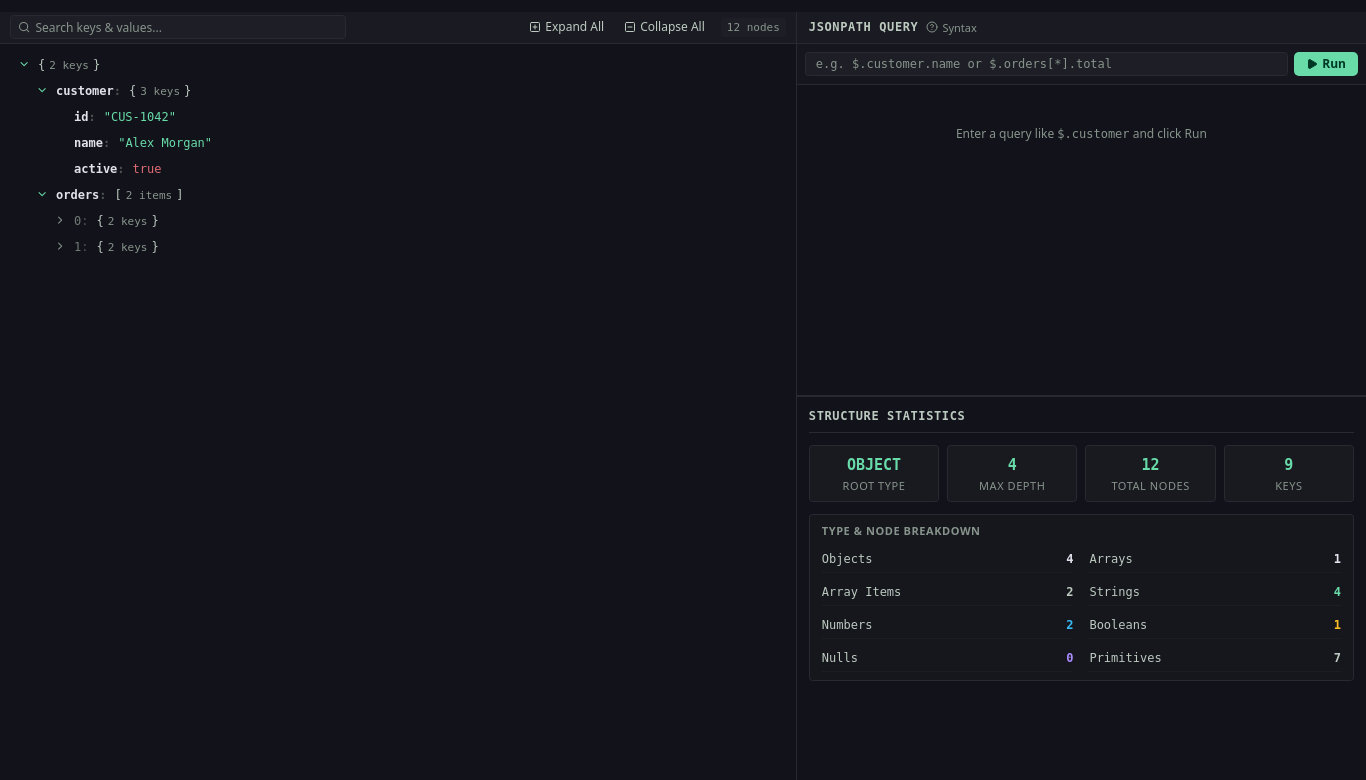
Test: Inspector Component Suite › handles expand and collapse on tree nodes
Expected: the text "\"Alex Morgan\"" is shown, [118, 134, 212, 152]
Step 1. Click the 2nd button named "collapse node" → [42, 90], box [32, 80, 52, 100]
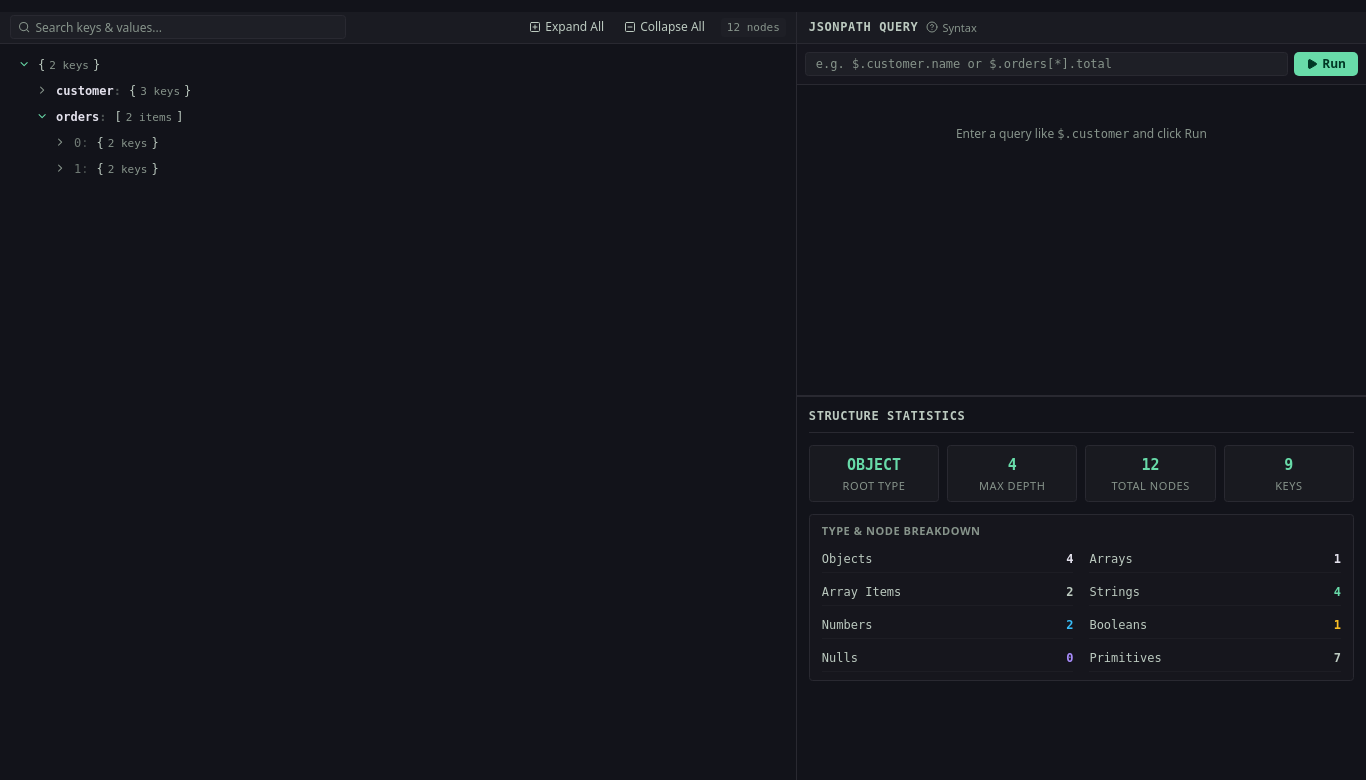
Step 2. Click the 1st button named "expand node" → [42, 90], box [32, 80, 52, 100]
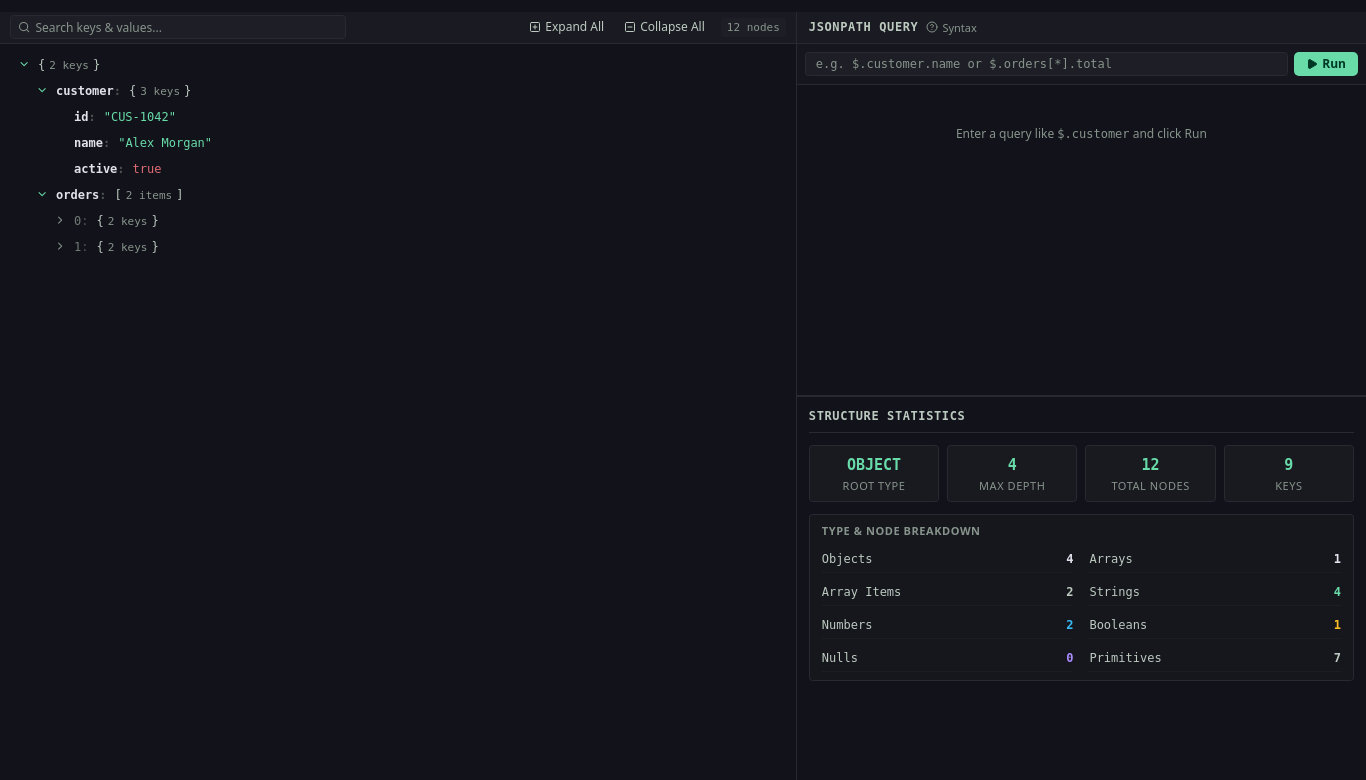
Now the text "\"Alex Morgan\"" is shown, box [118, 134, 212, 152]
